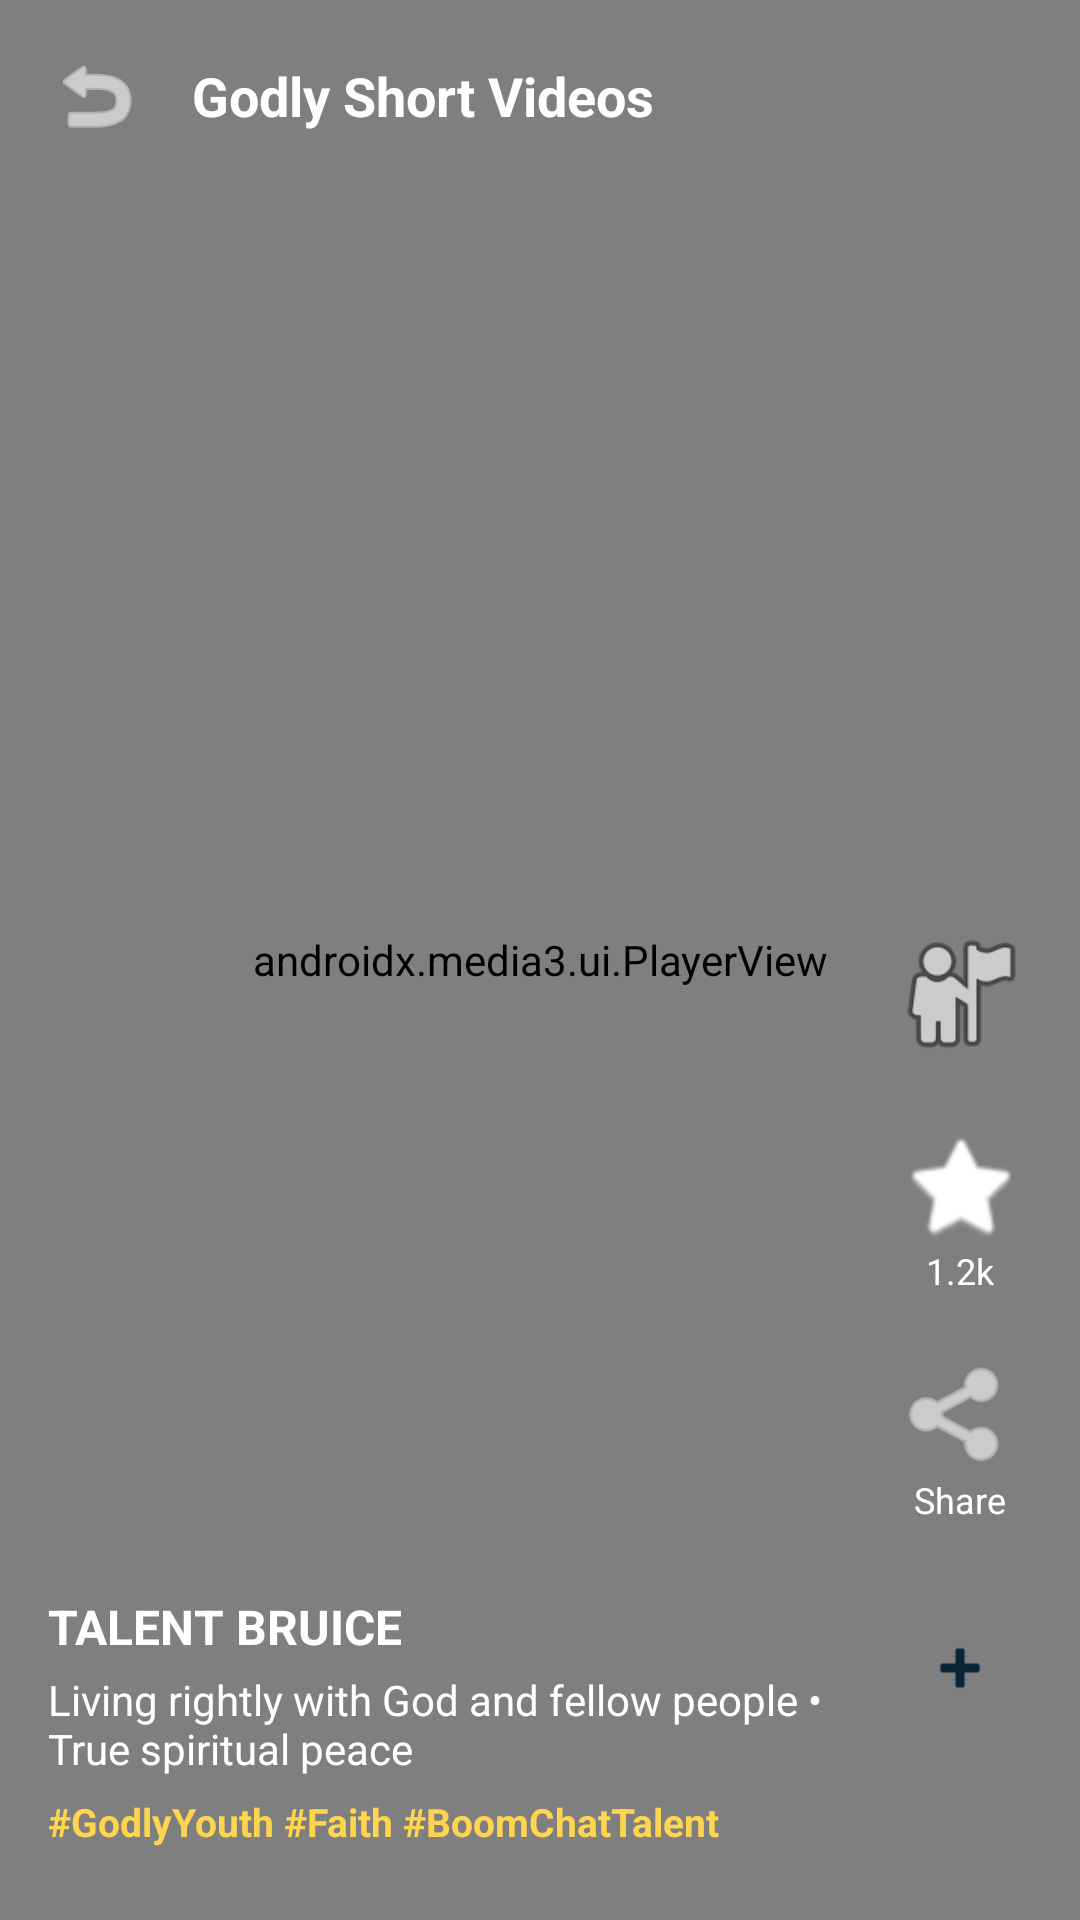

Where to tap for icons on this 1080x1920 app screen, as [x,y]:
add: [960,1668]
revert: [97,97]
star on: [961,1187]
